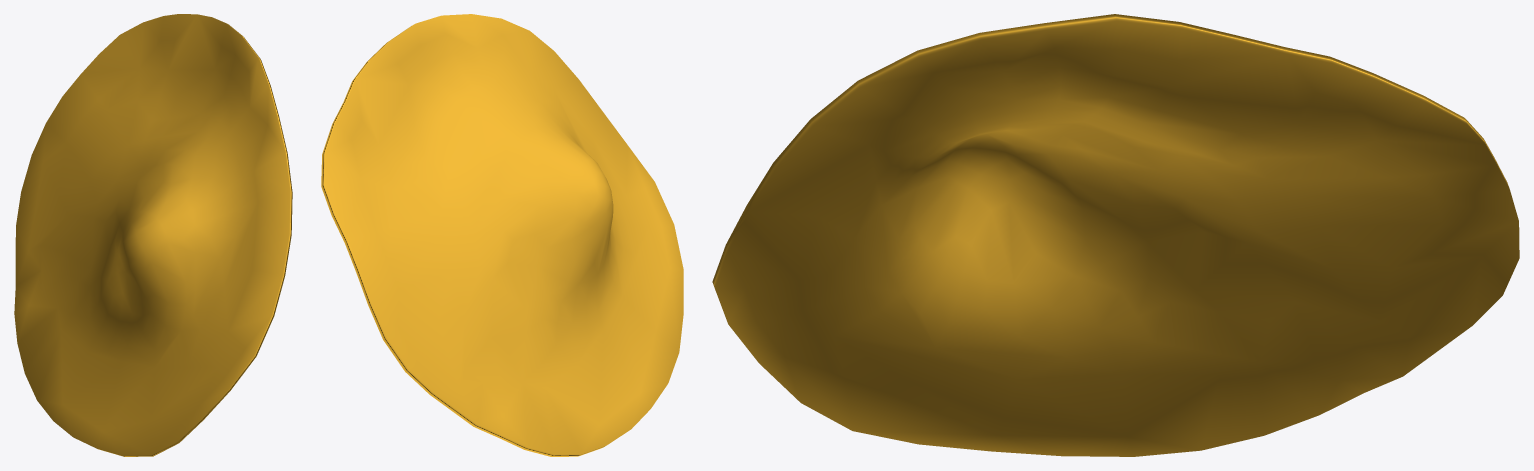
The model's file is nervoso-tympanic-membrane-l.glb.
3 renders of one model, left to right at view 1: azimuth 30°, elevation 25°; view 2: azimuth 150°, elevation 25°; view 3: azimuth 270°, elevation 25°, orthographic. The views are drawn at different scales.
Visible parts, largest first — view 1: Tympanic membrane.l; view 2: Tympanic membrane.l; view 3: Tympanic membrane.l.
Part boxes in pixels (box(x1,y1,x2,y2)): Tympanic membrane.l: box(14, 14, 292, 456); Tympanic membrane.l: box(321, 14, 683, 456); Tympanic membrane.l: box(712, 14, 1519, 456).
Bounding box in the file's own units: 0.00497 × 0.0085 × 0.0105.
